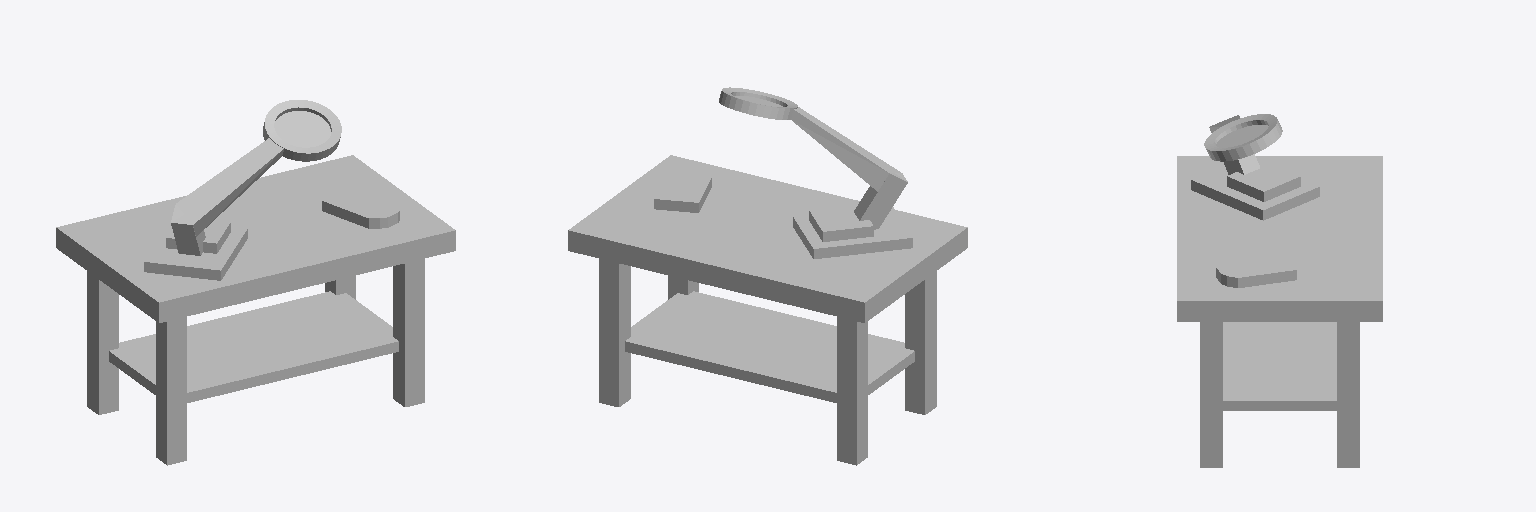
File: translation_table_ds.obj
The picture shows the model from 3 angles: view 1: azimuth 30°, elevation 25°; view 2: azimuth 150°, elevation 25°; view 3: azimuth 270°, elevation 25°; orthographic projection.
Parts seen in each view (by area): view 1: Circle_Circle.001; view 2: Circle_Circle.001; view 3: Circle_Circle.001.
Part boxes in pixels (x1,y1,x2,y2): Circle_Circle.001: (56, 100, 455, 465); Circle_Circle.001: (568, 87, 967, 465); Circle_Circle.001: (1177, 114, 1382, 467).
Bounding box in the file's own units: 1 × 0.9634 × 0.603.